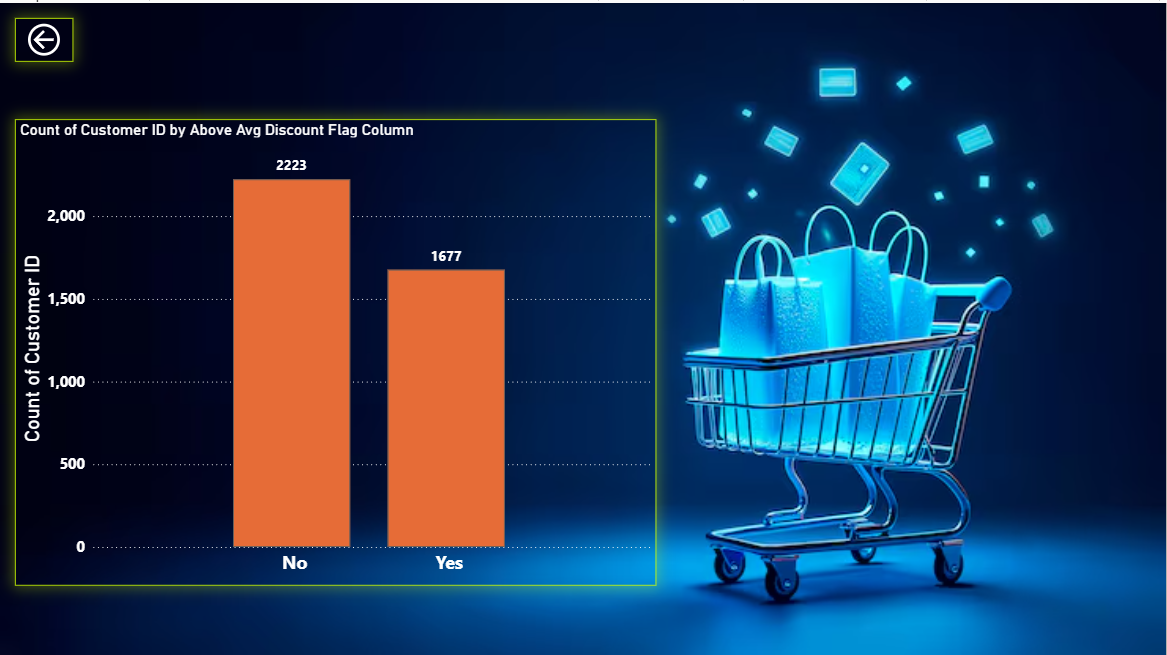

This screenshot's page, from the dashboard's own definition file:
{"tool":"powerbi","page":{"name":" Q2– Discount users above average spend","canvas":[1280,720],"ordinal":2},"visuals":[{"type":"columnChart","fields":{"Y":["CountNonNull(customer.Customer ID)"],"Category":["customer.Above Avg Discount Flag Column"]},"box":[176,48,896,608],"z":0}]}

Visuals, with their boxes in screenshot pixels (x1, y1, x2, y2), scaled from the page's 1280x720 canvas onto the 1167x655 screenshot:
columnChart - CountNonNull(customer.Customer ID) x customer.Above Avg Discount Flag Column: box=[160, 44, 977, 597]
